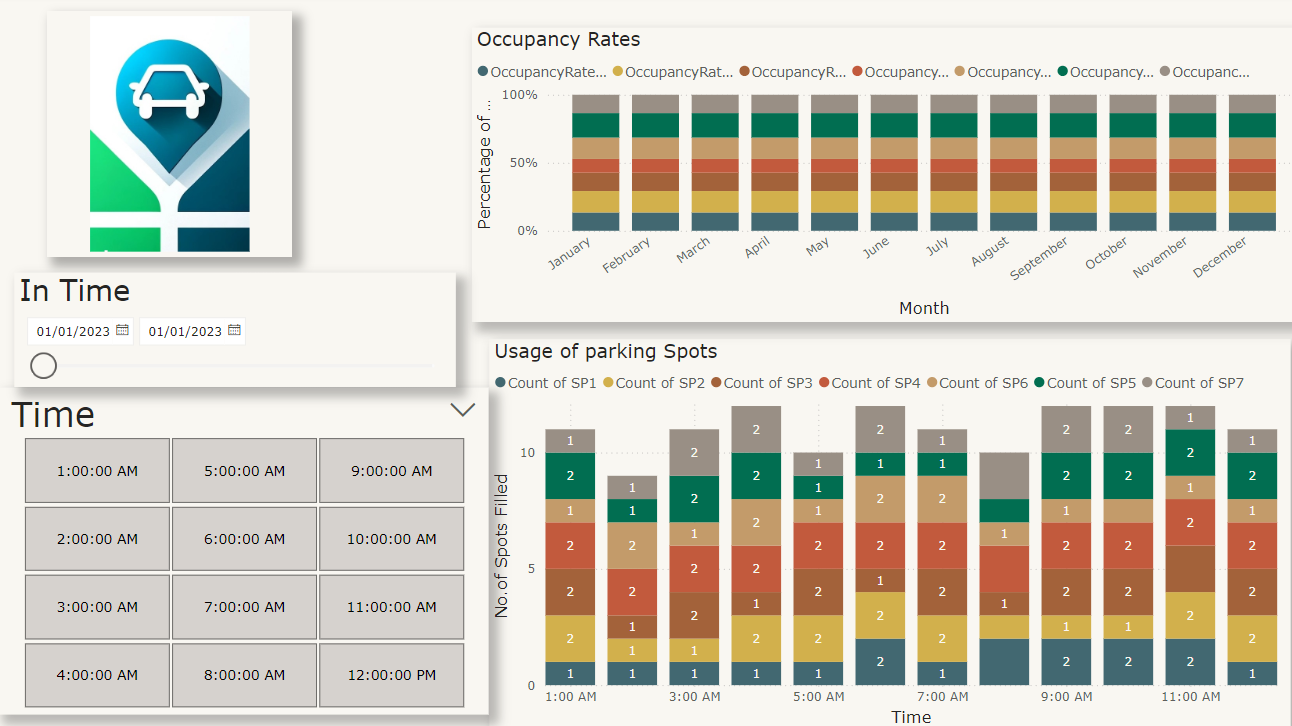

This screenshot's page, from the dashboard's own definition file:
{"tool":"powerbi","page":{"name":"Secondary","canvas":[1280,720],"ordinal":1},"visuals":[{"type":"columnChart","title":"Usage of parking Spots","fields":{"Category":["parking_status.Time"],"Y":["Count(parking_status.SP1)","Count(parking_status.SP2)","Count(parking_status.SP3)","CountNonNull(parking_status.SP4)","Count(parking_status.SP6)","Count(parking_status.SP5)","Count(parking_status.SP7)"]},"box":[480,336,784,384],"z":0},{"type":"hundredPercentStackedColumnChart","title":"Occupancy Rates","fields":{"Category":["parking_fares_calculated.InTime.Variation.Date Hierarchy.Month"],"Y":["parking_fares_calculated.OccupancyRateSP1","parking_fares_calculated.OccupancyRateS2","parking_fares_calculated.OccupancyRateSP3","parking_fares_calculated.OccupancyRateSP4","parking_fares_calculated.OccupancyRateSP5","parking_fares_calculated.OccupancyRateSP6","parking_fares_calculated.OccupancyRateSP7"]},"box":[464,32,816,288],"z":1000},{"type":"slicer","fields":{"Values":["parking_status.Time"]},"box":[0,384,480,320],"z":2000},{"type":"image","box":[48,16,240,240],"z":3000},{"type":"slicer","title":"In Time","fields":{"Values":["parking_fares_calculated.InTime"]},"box":[16,272,432,112],"z":4000}]}

Visuals, with their boxes in screenshot pixels (x1, y1, x2, y2), scaled from the page's 1280x720 canvas onto the 1292x726 screenshot:
"Usage of parking Spots" columnChart: <bbox>484, 339, 1276, 725</bbox>
"Occupancy Rates" hundredPercentStackedColumnChart: <bbox>468, 32, 1291, 323</bbox>
slicer - parking_status.Time: <bbox>0, 387, 484, 710</bbox>
image: <bbox>48, 16, 291, 258</bbox>
"In Time" slicer: <bbox>16, 274, 452, 387</bbox>
